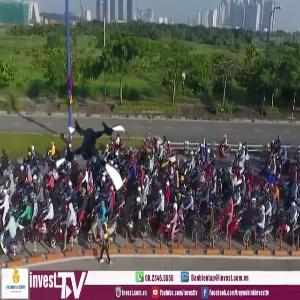drone: (52, 114, 139, 201)
